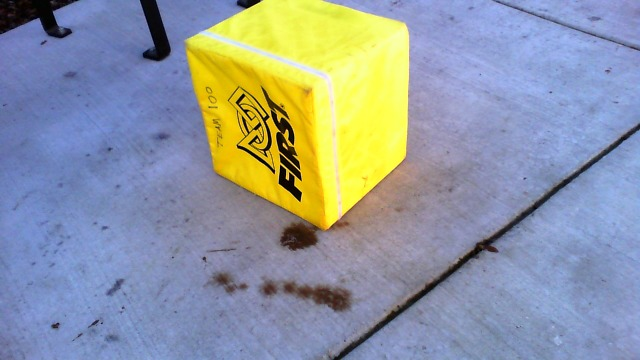cube: (182, 2, 420, 225)
